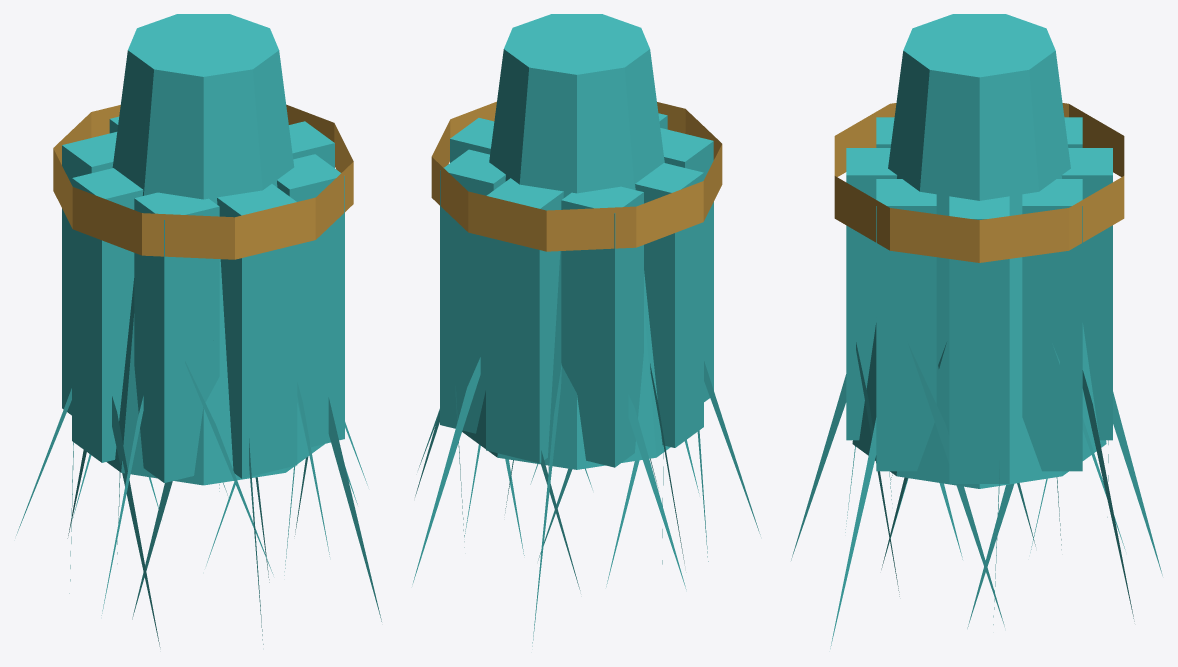
Rendered from custom_broom_cerdas_magic.obj.
The picture shows the model from 3 angles, left to right: view 1: azimuth 30°, elevation 25°; view 2: azimuth 150°, elevation 25°; view 3: azimuth 270°, elevation 25°; orthographic projection. The views are drawn at different scales.
Size of the model in its own units: 0.4301 by 0.714 by 0.4341.
